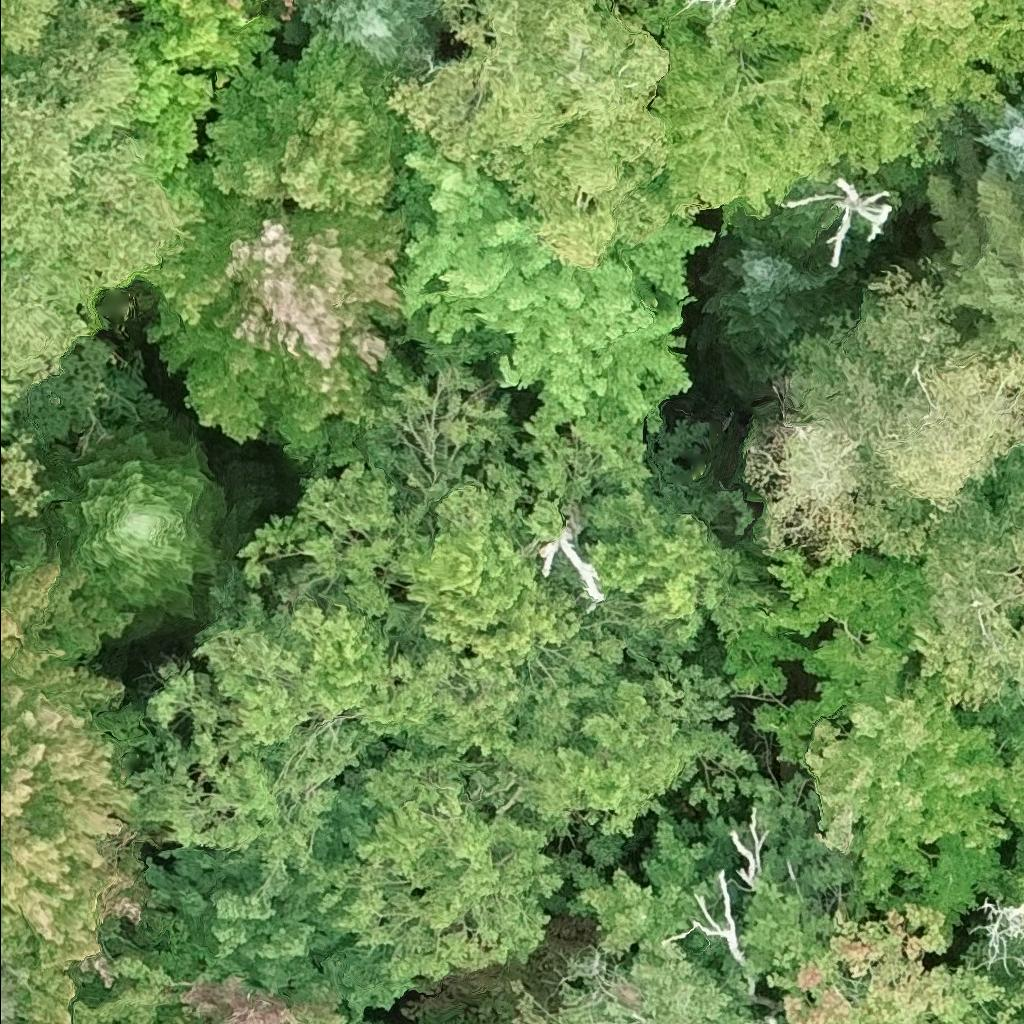crown: (120, 368, 791, 1003), (398, 125, 716, 483), (721, 546, 1023, 922), (621, 0, 1023, 219), (508, 773, 855, 1023), (141, 159, 414, 468), (385, 0, 683, 266), (0, 524, 148, 1023), (0, 0, 177, 326), (67, 846, 384, 1023), (127, 0, 284, 257), (215, 34, 413, 209), (61, 428, 226, 621), (768, 902, 1023, 1023), (0, 251, 110, 515), (875, 335, 1023, 513), (744, 417, 923, 564), (904, 494, 1023, 709), (928, 132, 1023, 357), (697, 233, 845, 354), (818, 0, 1023, 76), (296, 0, 445, 81), (856, 267, 958, 376), (780, 172, 891, 266), (963, 870, 1023, 995), (968, 97, 1023, 182), (0, 0, 64, 66), (0, 960, 22, 1023), (455, 1008, 508, 1023), (692, 0, 737, 14), (271, 0, 315, 13), (421, 1020, 440, 1023), (1020, 14, 1023, 23), (1022, 1022, 1023, 1023)
